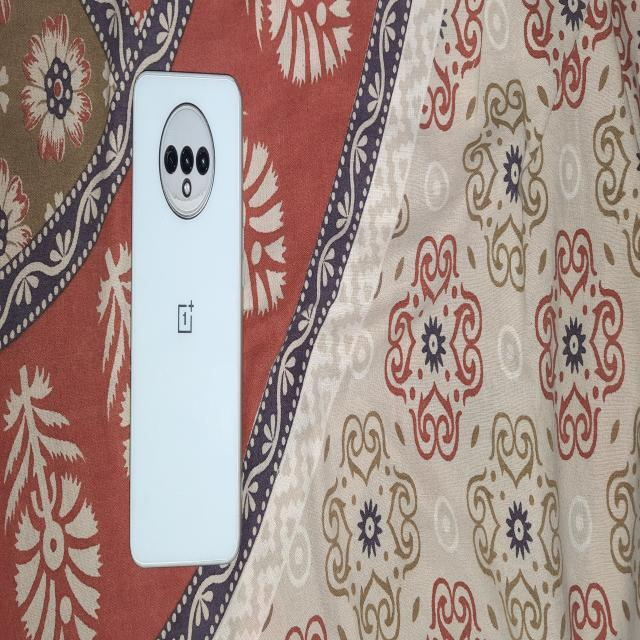Mobile: (128, 67, 241, 580)
